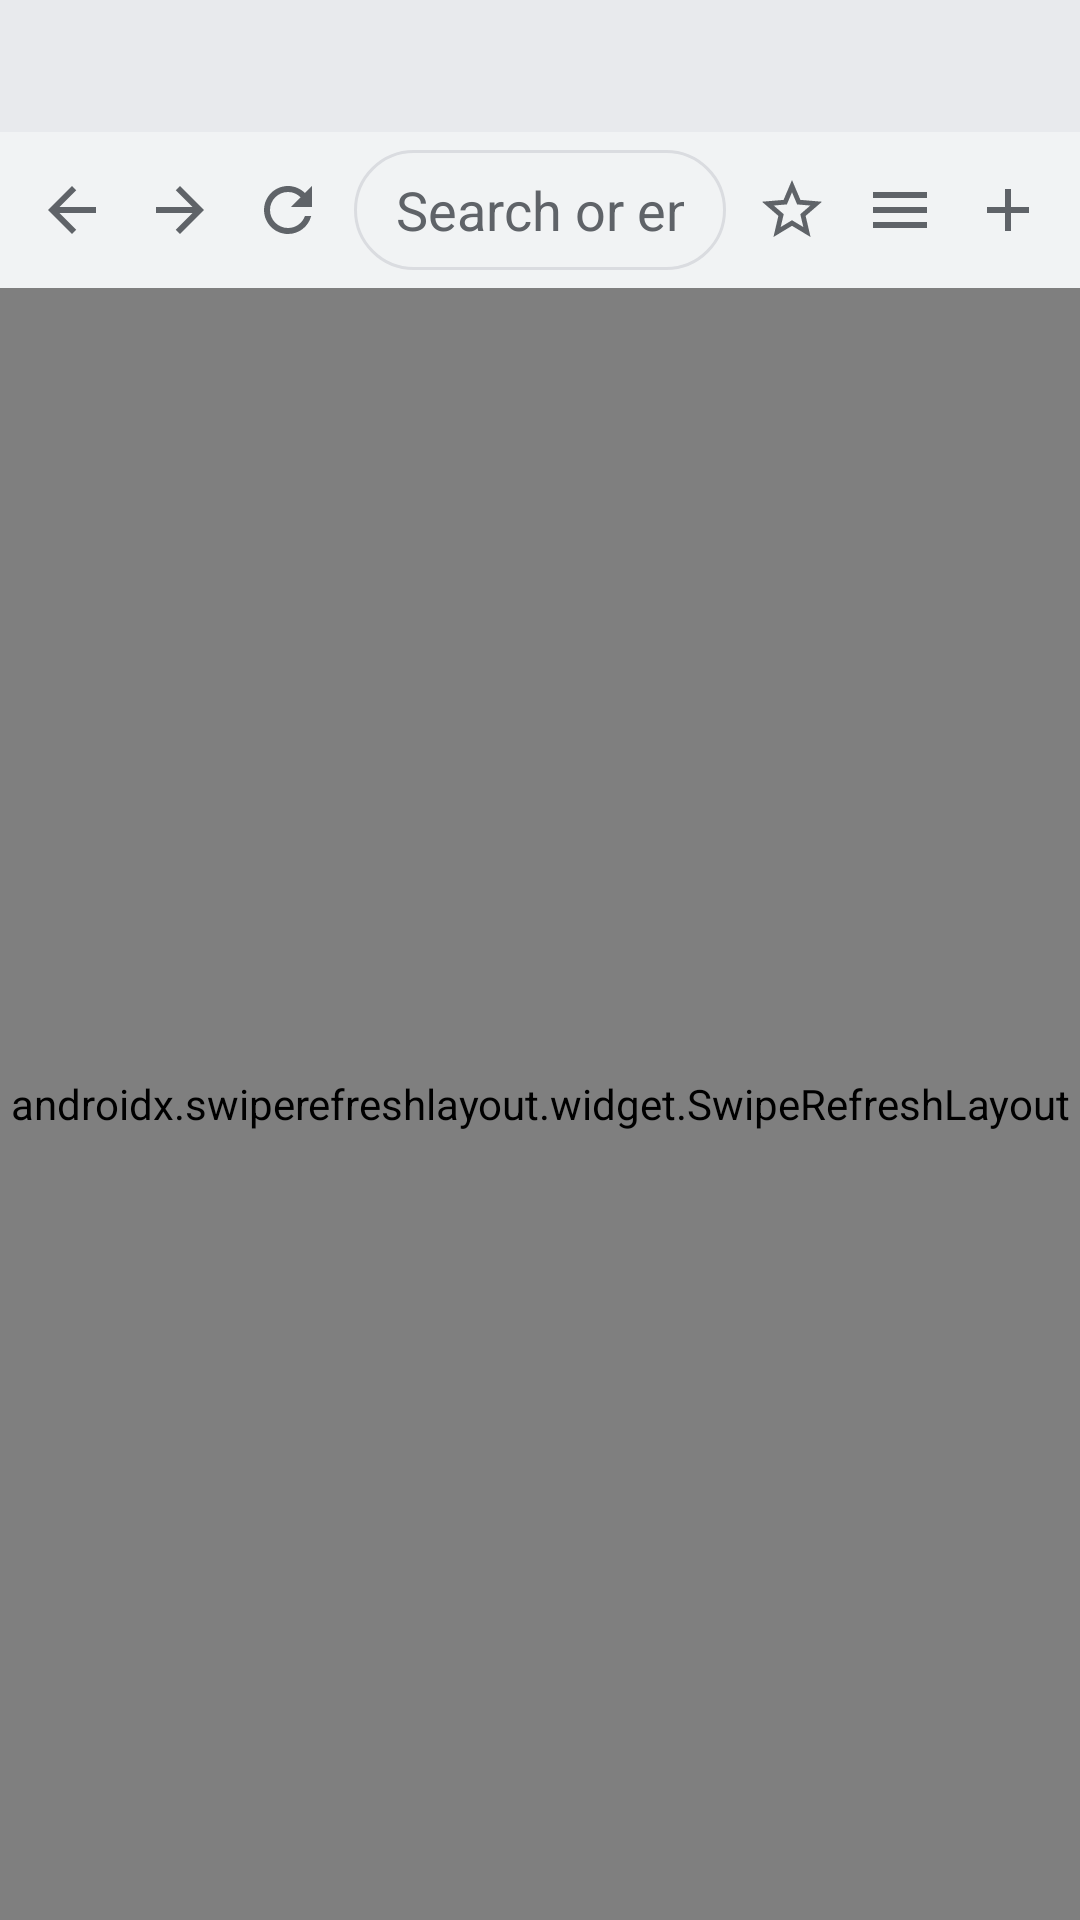

Icons on this 1080 × 1920 Android screen, each with its box as region(x1, y1, x2, y2):
Back: region(48, 186, 96, 234)
Bookmark: region(762, 180, 822, 237)
Forward: region(156, 186, 204, 234)
More options: region(873, 192, 927, 228)
New tab: region(987, 189, 1029, 231)
Reload: region(264, 186, 312, 234)
